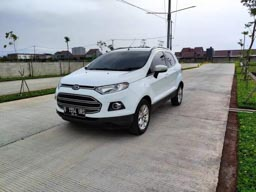plat: (63, 105, 85, 116)
